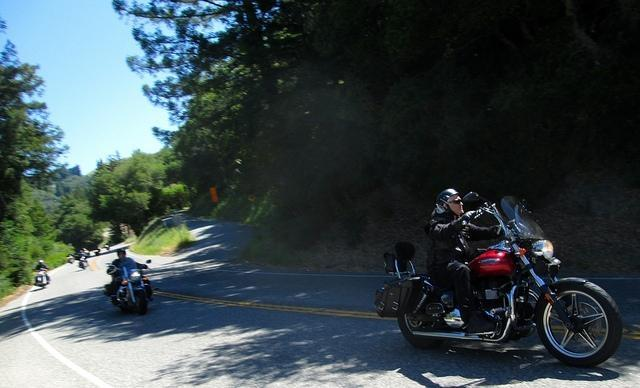motorcycle: (374, 184, 629, 364), (110, 257, 154, 315), (33, 270, 49, 290), (71, 253, 81, 260), (81, 261, 86, 270), (94, 249, 99, 256), (68, 259, 74, 264), (84, 250, 89, 255)
